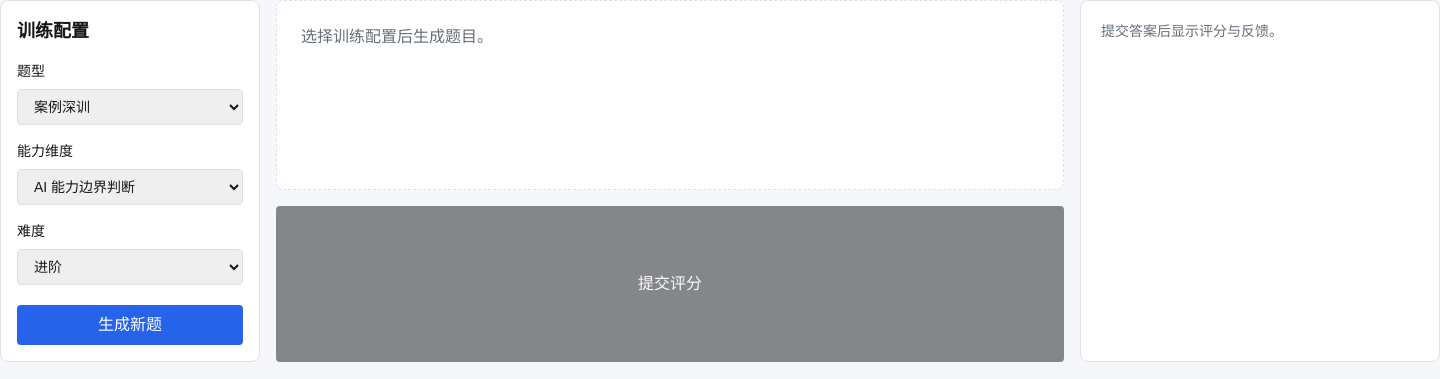
Test case: TrainingWorkbench › shows single-choice scoring as answer analysis and skips the reference-answer action
Click the button "生成新题". click: x=130, y=325
box: [17,305,243,345]
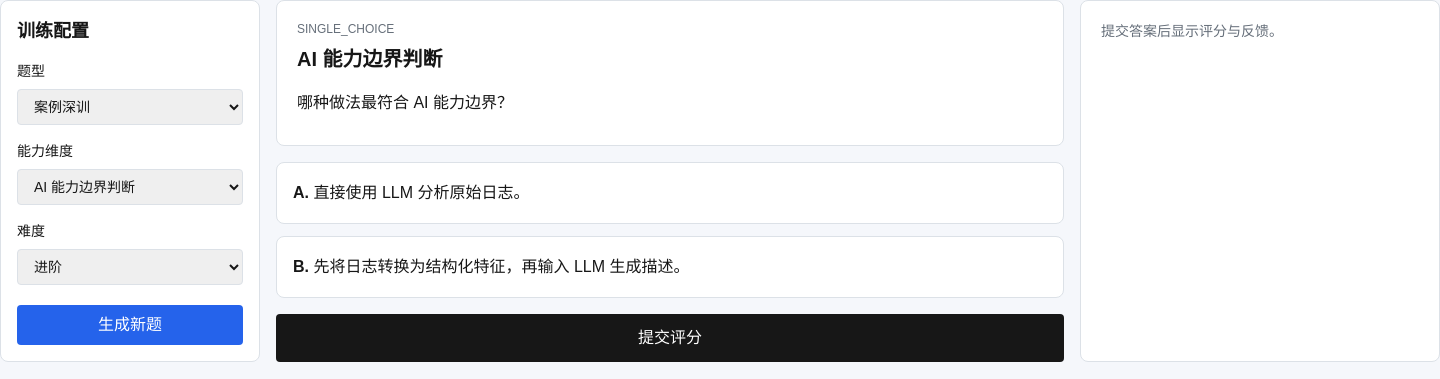
Now the button "B. 先将日志转换为结构化特征，再输入 LLM 生成描述。" is shown
Click the button "B. 先将日志转换为结构化特征，再输入 LLM 生成描述。". click: x=670, y=267
box: [276,236,1064,298]
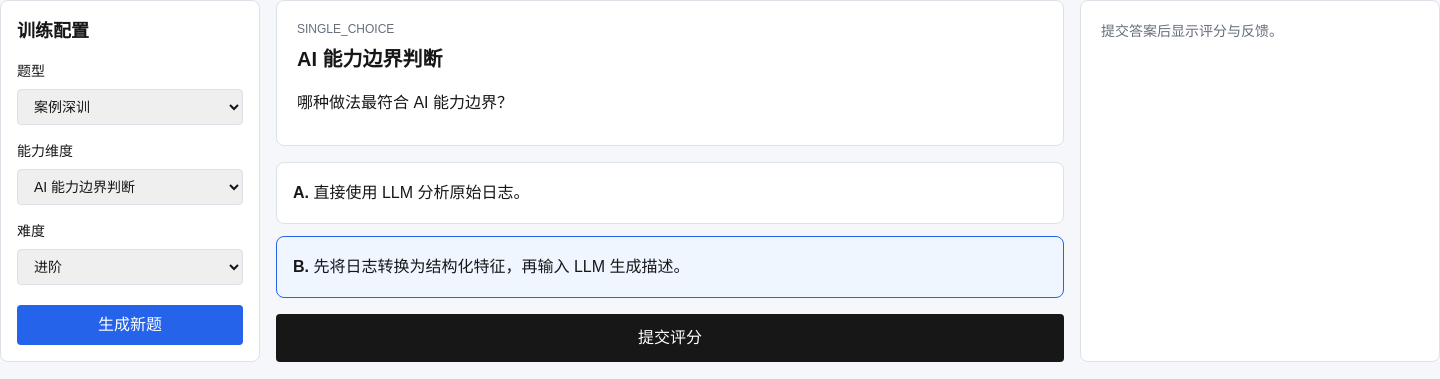
Click the button "提交评分". click: x=670, y=338
box: [276,314,1064,362]
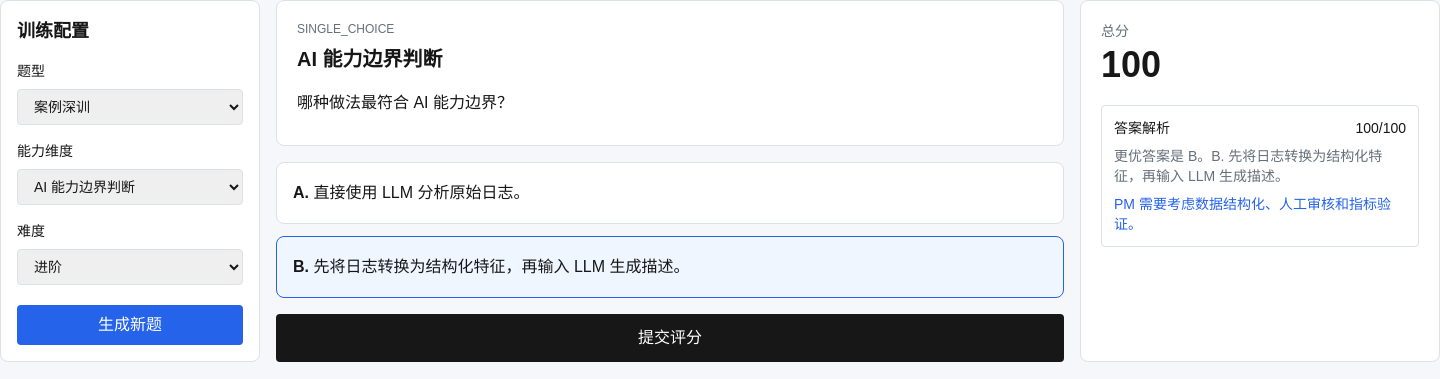
Now the text "答案解析" is shown, box [1114,118,1170,138]
Now the text "更优答案是 B。B. 先将日志转换为结构化特征，再输入 LLM 生成描述。" is shown, box [1114,146,1406,186]
